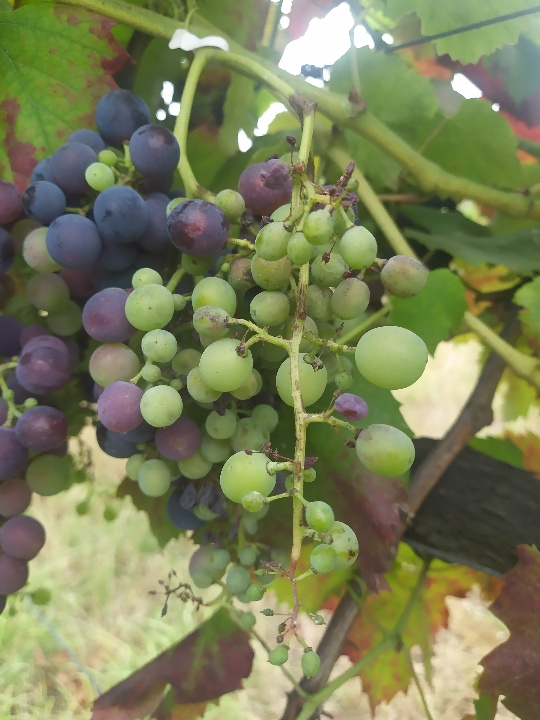grape: (122, 154, 434, 682)
